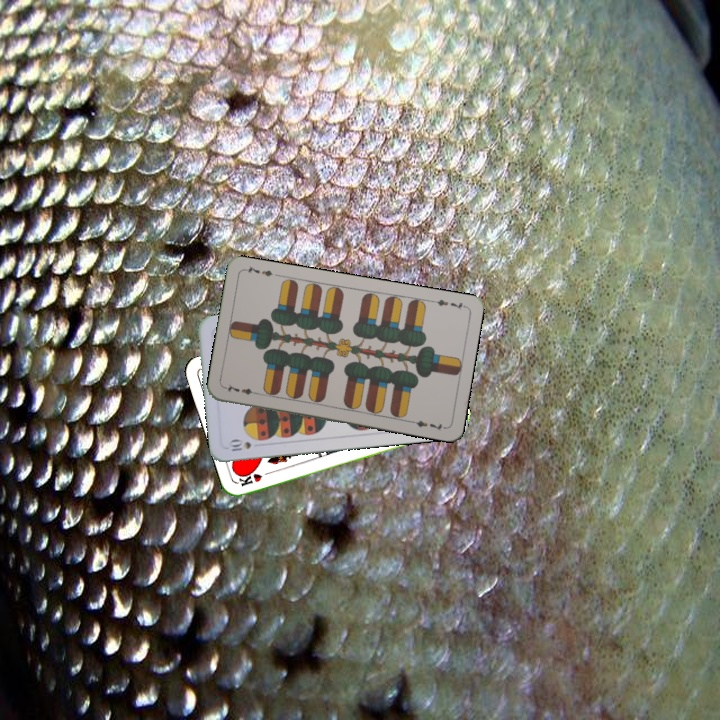E7: (221, 380, 262, 397), (427, 295, 468, 312)
HK: (235, 467, 275, 489)
S10: (227, 437, 253, 454)
